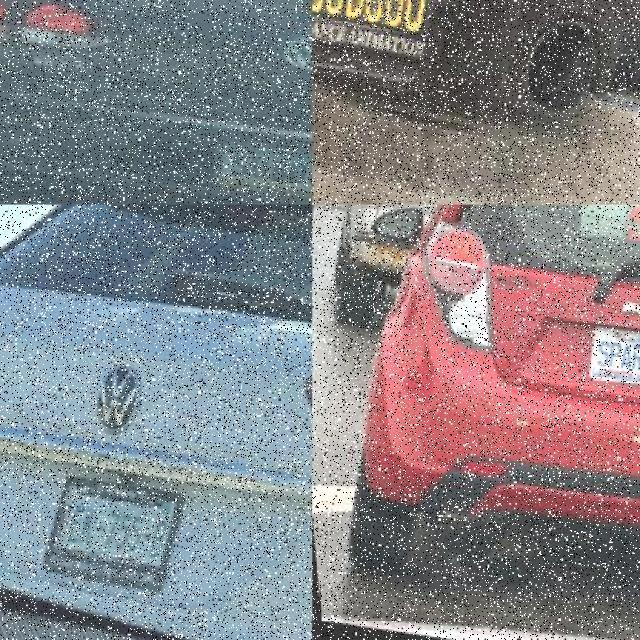LicensePlate: (31, 478, 178, 600), (311, 0, 432, 67), (201, 141, 311, 204), (581, 330, 639, 390)
